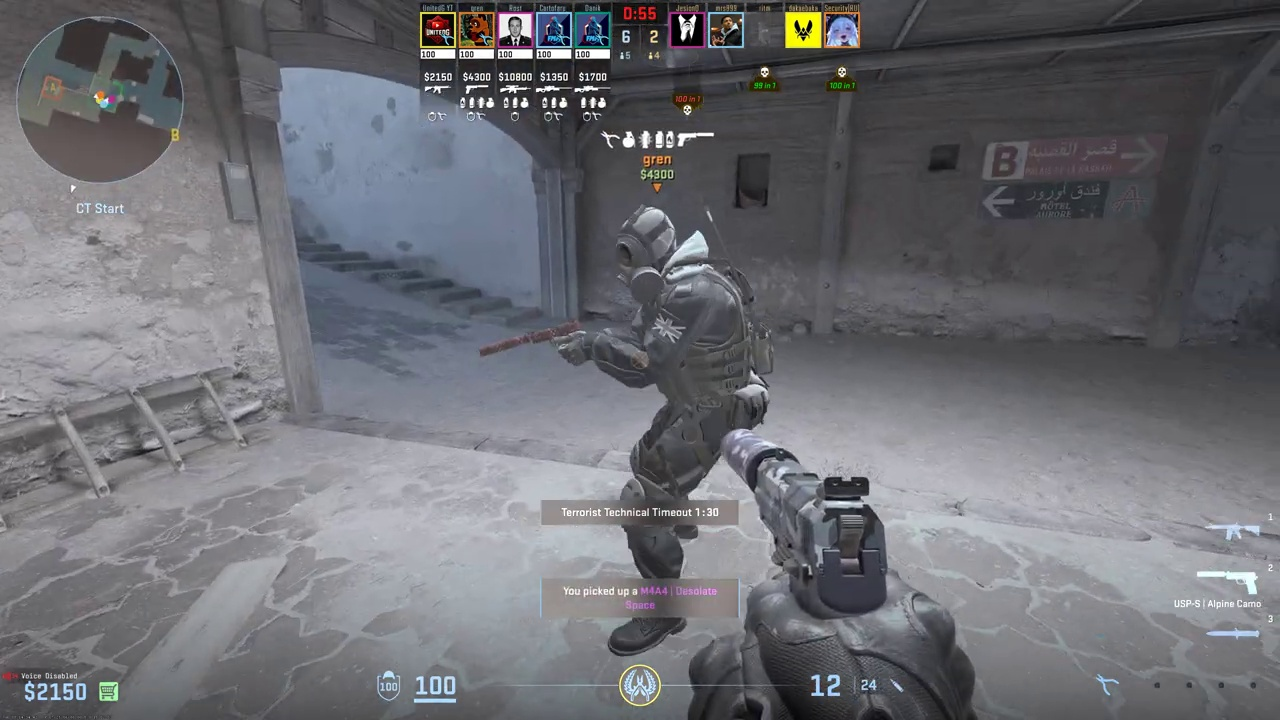CT: (605, 206, 762, 651)
